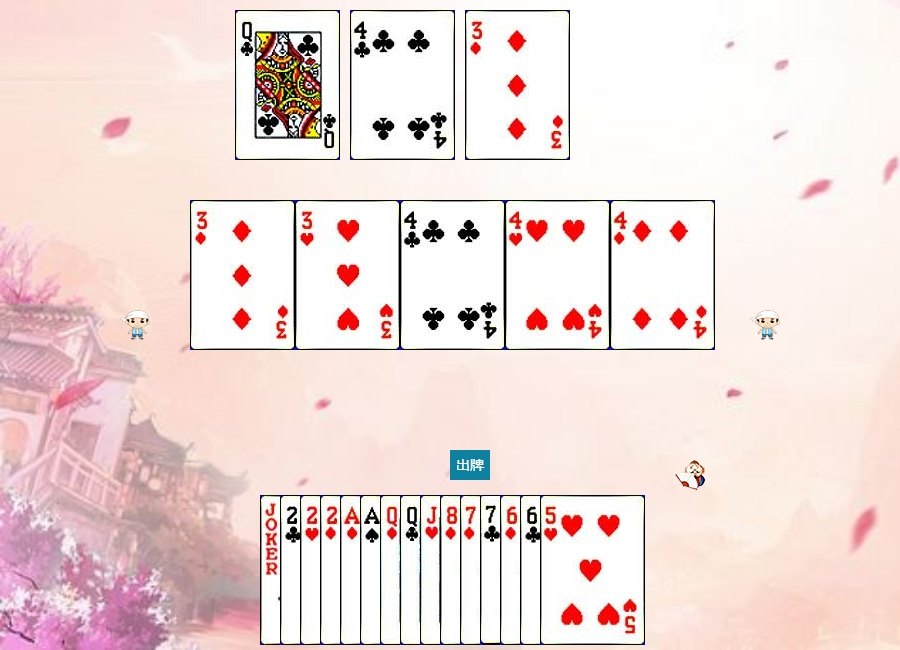11~3: (420, 495, 525, 645)
12~1: (380, 495, 485, 645)
12~2: (235, 10, 340, 160), (400, 495, 505, 645)
14~1: (340, 495, 445, 645)
14~4: (360, 495, 465, 645)
15~1: (320, 495, 425, 645)
15~2: (280, 495, 385, 645)
15~3: (300, 495, 405, 645)
18~4: (260, 495, 365, 645)
3~1: (465, 10, 570, 160), (190, 200, 295, 350)
3~3: (295, 200, 400, 350)
4~1: (610, 200, 715, 350)
4~2: (350, 10, 455, 160), (400, 200, 505, 350)
4~3: (505, 200, 610, 350)
5~3: (540, 495, 645, 645)
6~1: (500, 495, 605, 645)
6~2: (520, 495, 625, 645)
7~1: (460, 495, 565, 645)
7~2: (480, 495, 585, 645)
8~1: (440, 495, 545, 645)
